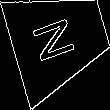N_E: (33, 13, 86, 66)
